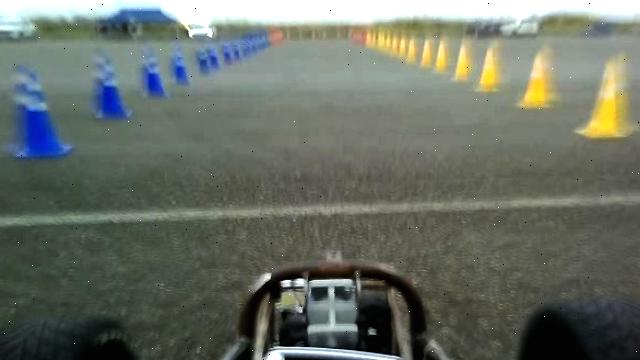blue cone: (11, 64, 72, 159), (99, 54, 125, 120), (141, 45, 166, 98), (171, 47, 189, 86), (197, 49, 210, 74)
yellow cone: (574, 54, 636, 139), (522, 52, 547, 106), (475, 47, 500, 92), (452, 42, 470, 82), (433, 38, 448, 74), (419, 38, 432, 68)
